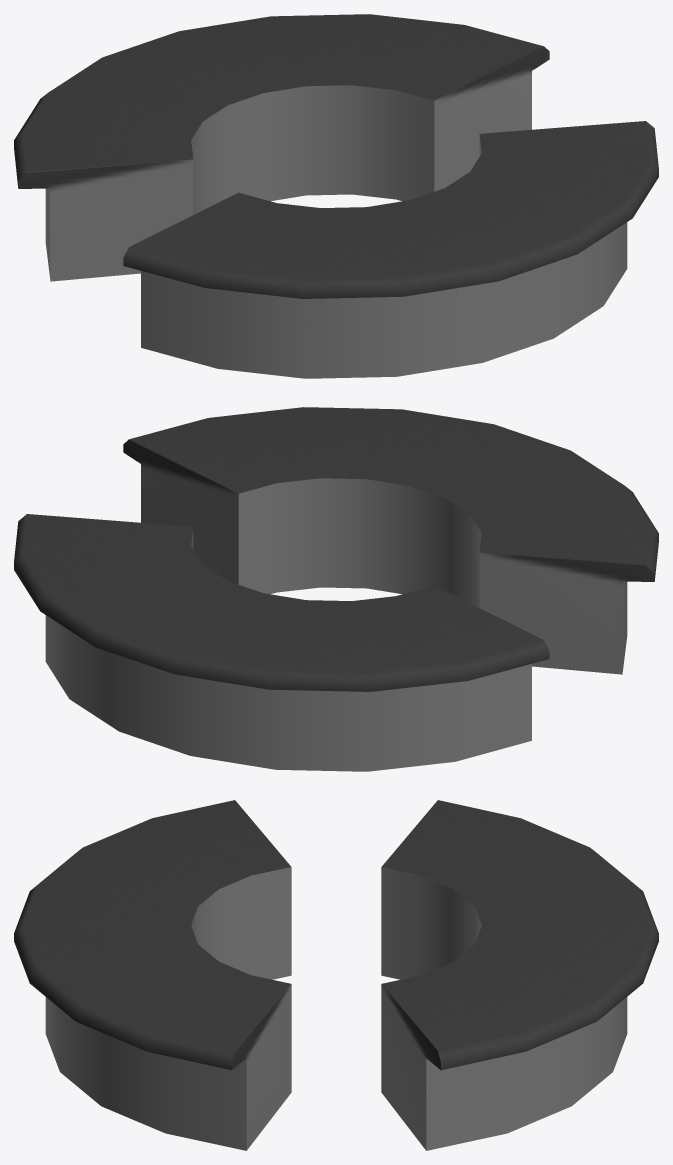
Rendered from Commons_Bar.fbx.
The picture shows the model from 3 angles, top to bottom: view 1: azimuth 30°, elevation 25°; view 2: azimuth 150°, elevation 25°; view 3: azimuth 270°, elevation 25°; orthographic projection.
Parts seen in each view (by area): view 1: Commons_Bar; view 2: Commons_Bar; view 3: Commons_Bar.
Boxes of the visible parts, left/top/right/bottom form: Commons_Bar: left=14, top=14, right=658, bottom=378; Commons_Bar: left=14, top=407, right=658, bottom=771; Commons_Bar: left=14, top=800, right=658, bottom=1150.
Size of the model in its own units: 1684 by 331 by 1780.
